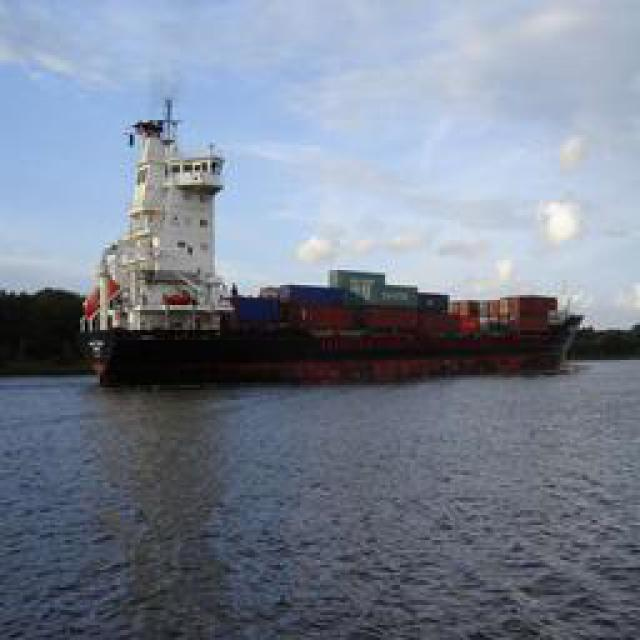Ship: (88, 272, 576, 382)
